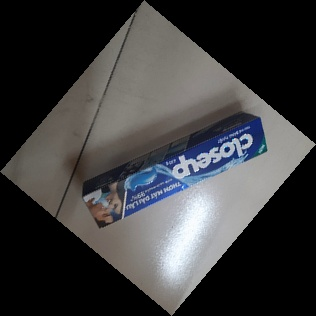CloseUp Tuyet: (81, 112, 269, 231)
